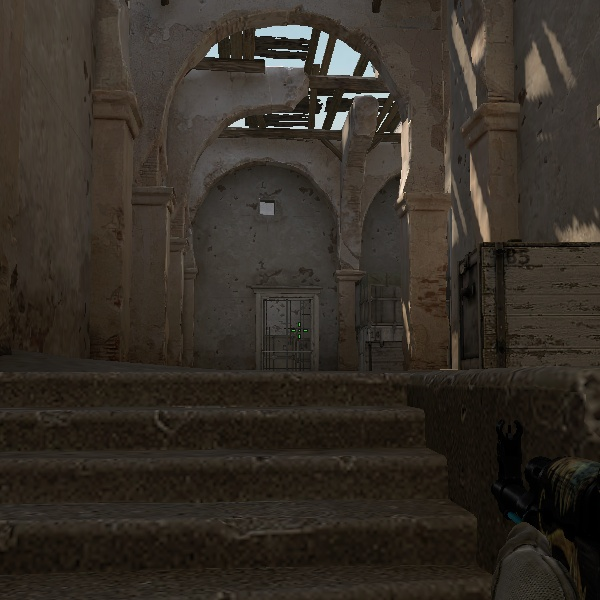t_body: (284, 10, 376, 136)
